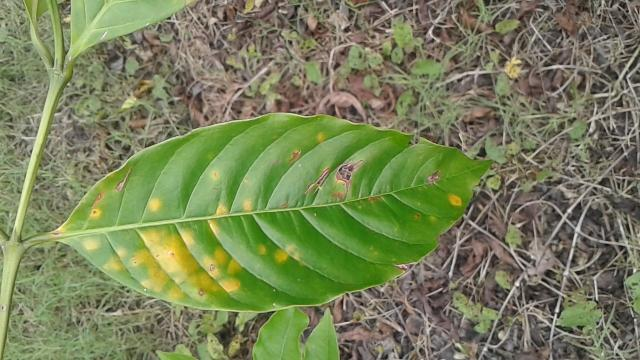rust_level_2: (60, 117, 492, 310)
